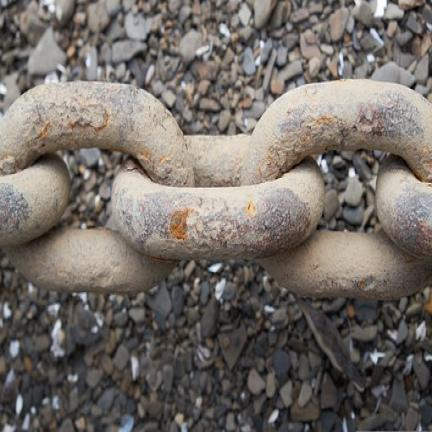besi_tidak_karat: (0, 81, 431, 301)
